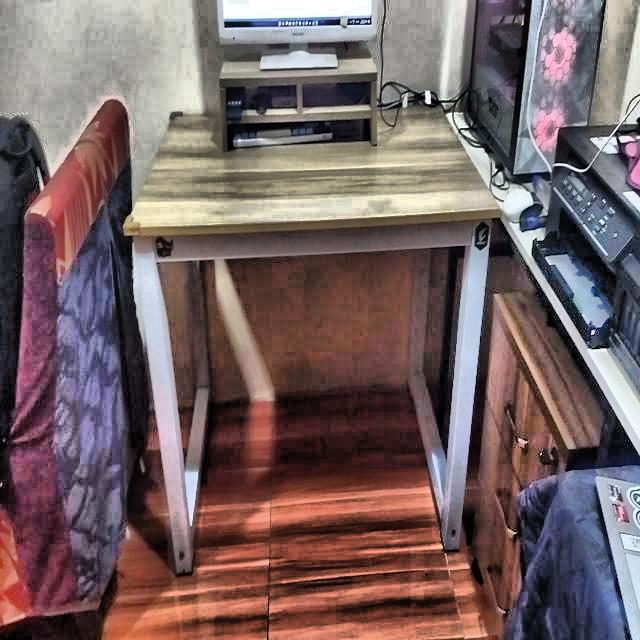mesa: (127, 98, 502, 574)
